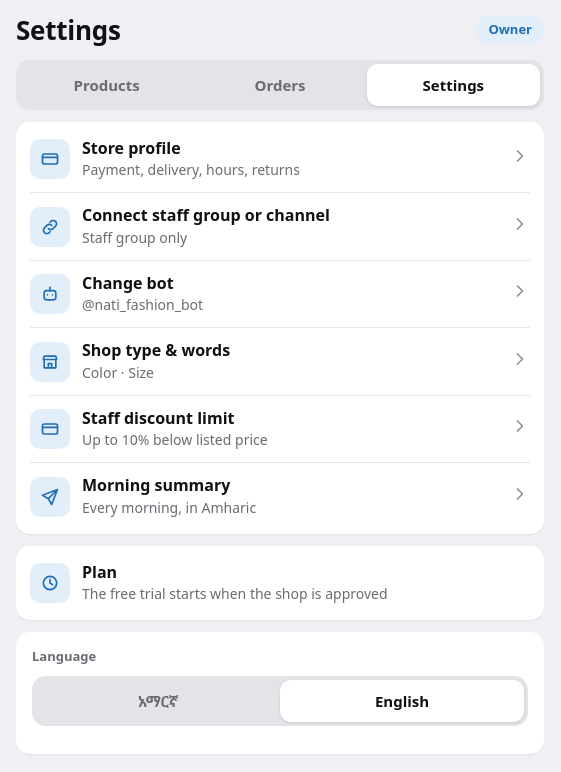
Settings › switches the language to Amharic and remembers it
The image size is (561, 772).
Click the tab "አማርኛ". click: (158, 701)
box: [36,680,280,722]
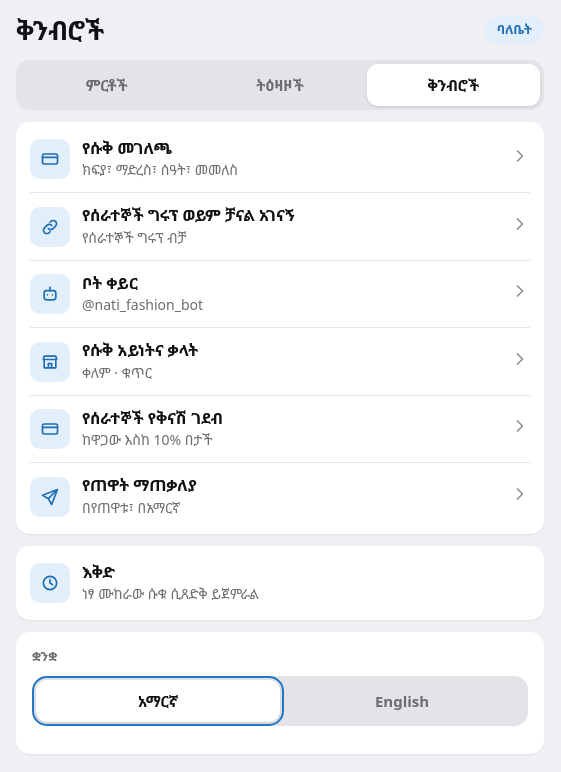
Expected: the heading "ቅንብሮች" is shown, [16,16,104,46]
